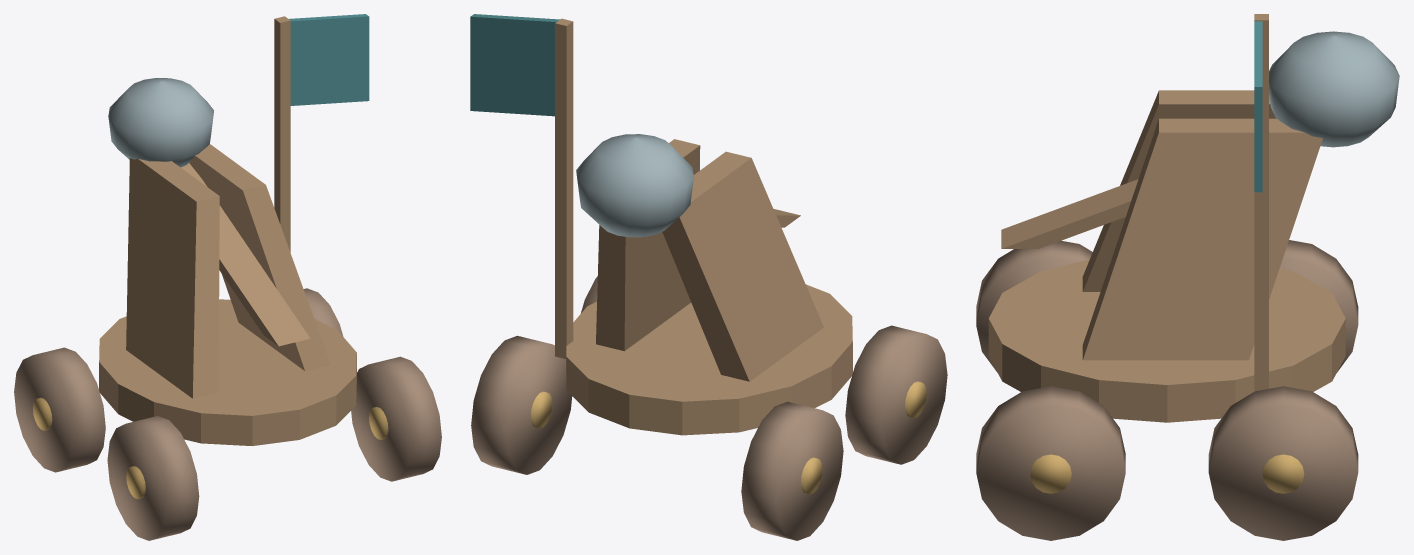
Rendered from catapult.glb.
The picture shows the model from 3 angles, left to right: view 1: azimuth 30°, elevation 25°; view 2: azimuth 150°, elevation 25°; view 3: azimuth 270°, elevation 25°; orthographic projection. The views are drawn at different scales.
Visible parts, largest first — view 1: Siege deck, A frame, A frame.001, Wheel carved rim, Wheel carved rim.001, Wheel carved rim.002, Sling stone, Regional siege banner, Throwing arm, Flagpole, Wheel carved rim.003, Wheel hub (+2 smaller); view 2: Siege deck, A frame, Wheel carved rim.001, Wheel carved rim, Wheel carved rim.003, Sling stone, A frame.001, Regional siege banner, Flagpole, Wheel hub.001, Wheel hub, Wheel hub.003; view 3: A frame.001, Siege deck, Wheel carved rim.003, Wheel carved rim.002, Sling stone, A frame, Flagpole, Throwing arm, Wheel carved rim, Wheel carved rim.001, Regional siege banner, Wheel hub.003 (+1 smaller).
Boxes of the visible parts, x1=… form: Siege deck: x1=99, y1=299, x2=356, y2=445; A frame: x1=126, y1=158, x2=219, y2=398; A frame.001: x1=189, y1=144, x2=330, y2=371; Wheel carved rim: x1=107, y1=416, x2=199, y2=540; Wheel carved rim.001: x1=14, y1=347, x2=105, y2=472; Wheel carved rim.002: x1=351, y1=356, x2=441, y2=481; Sling stone: x1=108, y1=78, x2=213, y2=167; Regional siege banner: x1=289, y1=14, x2=369, y2=105; Throwing arm: x1=181, y1=163, x2=310, y2=346; Flagpole: x1=274, y1=16, x2=290, y2=252; Wheel carved rim.003: x1=303, y1=288, x2=343, y2=336; Wheel hub: x1=126, y1=466, x2=145, y2=499; Siege deck: x1=566, y1=284, x2=852, y2=435; A frame: x1=662, y1=151, x2=823, y2=381; Wheel carved rim.001: x1=741, y1=401, x2=843, y2=540; Wheel carved rim: x1=845, y1=325, x2=947, y2=464; Wheel carved rim.003: x1=471, y1=335, x2=572, y2=474; Sling stone: x1=576, y1=134, x2=693, y2=237; A frame.001: x1=596, y1=139, x2=700, y2=351; Regional siege banner: x1=470, y1=14, x2=559, y2=116; Flagpole: x1=555, y1=18, x2=573, y2=358; Wheel hub.001: x1=801, y1=457, x2=822, y2=494; Wheel hub: x1=905, y1=381, x2=926, y2=418; Wheel hub.003: x1=530, y1=391, x2=552, y2=428; A frame.001: x1=1082, y1=118, x2=1322, y2=360; Siege deck: x1=988, y1=259, x2=1345, y2=422; Wheel carved rim.003: x1=1208, y1=386, x2=1358, y2=540; Wheel carved rim.002: x1=976, y1=386, x2=1125, y2=540; Sling stone: x1=1269, y1=31, x2=1399, y2=147; A frame: x1=1082, y1=90, x2=1276, y2=291; Flagpole: x1=1254, y1=14, x2=1268, y2=391; Throwing arm: x1=1001, y1=179, x2=1138, y2=248; Wheel carved rim: x1=976, y1=240, x2=1092, y2=372; Wheel carved rim.001: x1=1280, y1=240, x2=1358, y2=372; Regional siege banner: x1=1254, y1=21, x2=1262, y2=192; Wheel hub.003: x1=1262, y1=454, x2=1304, y2=493.
Bounding box in the file's own units: 1.09 × 1.32 × 1.02.
